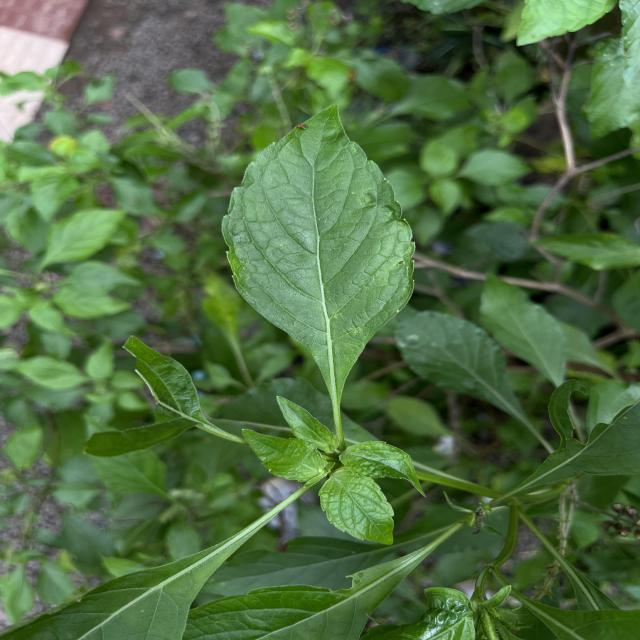Ocimum gratissimum: (216, 100, 418, 419)
